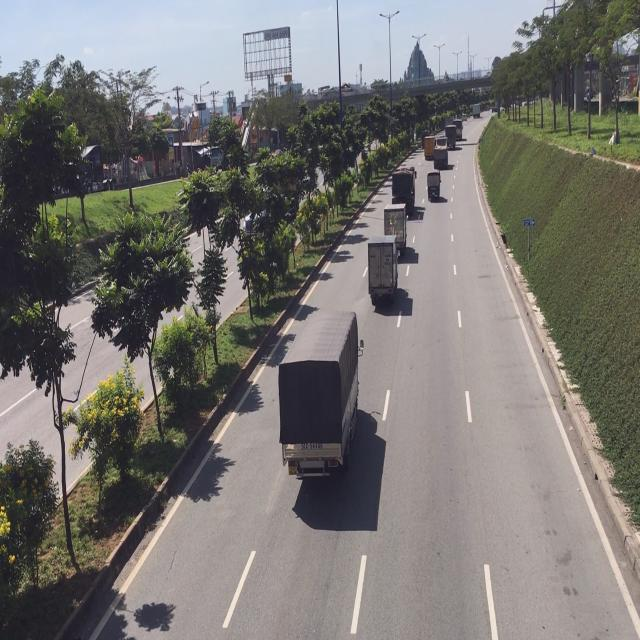truck: (281, 310, 363, 475), (367, 234, 399, 307), (383, 202, 407, 254), (391, 164, 415, 212), (426, 168, 440, 202)
